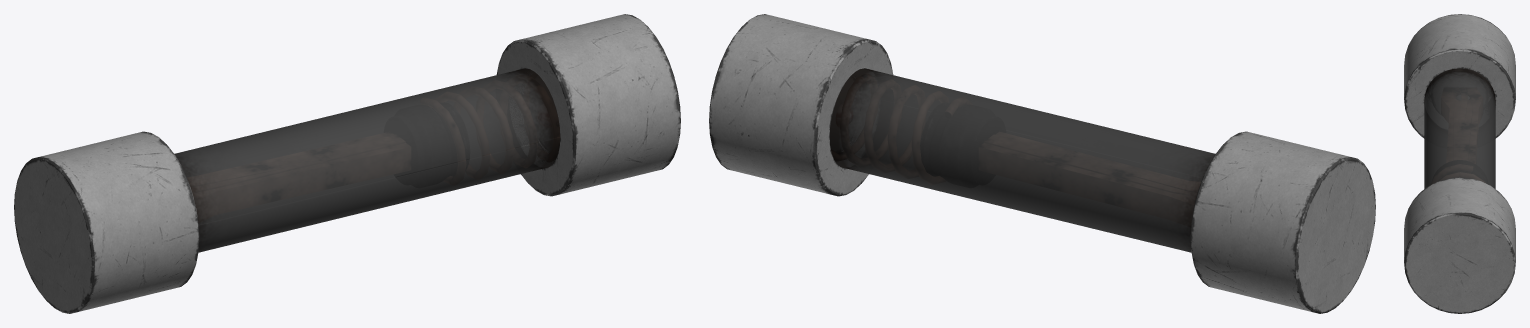
The model's file is electronic_fuse.glb.
3 views of the same model, side by side, from view 1: azimuth 30°, elevation 25°; view 2: azimuth 150°, elevation 25°; view 3: azimuth 270°, elevation 25° (orthographic). The views are drawn at different scales.
Parts seen in each view (by area): view 1: Cylinder; view 2: Cylinder; view 3: Cylinder.
Boxes of the visible parts, bbox=[...] form: Cylinder: bbox=[14, 14, 680, 313]; Cylinder: bbox=[709, 14, 1375, 313]; Cylinder: bbox=[1404, 14, 1515, 313].
Bounding box in the file's own units: 11 × 2.6 × 2.6.
Materials: 2 (2 with a texture image).
